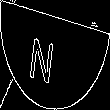N_N: (40, 26, 70, 84)
